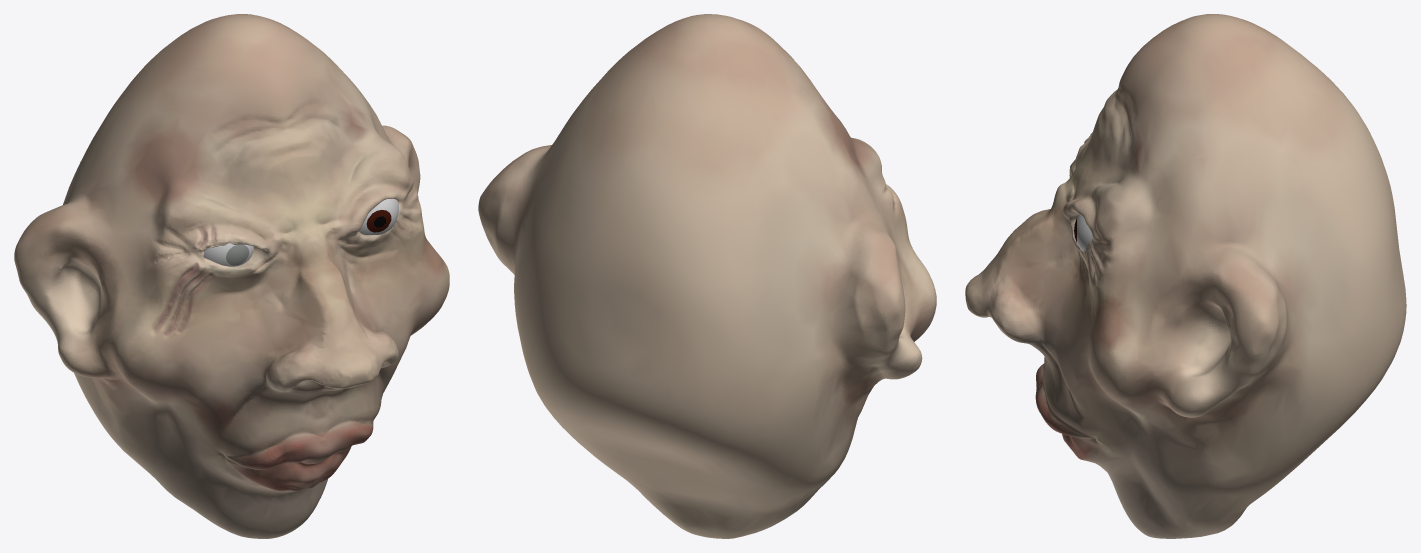
3 views of the same model, side by side, from view 1: azimuth 30°, elevation 25°; view 2: azimuth 150°, elevation 25°; view 3: azimuth 270°, elevation 25° (orthographic). The views are drawn at different scales.
Parts seen in each view (by area): view 1: Head, Left Eye; view 2: Head; view 3: Head.
Part boxes in pixels (<box>): Head: <box>14,14,449,538</box>; Left Eye: <box>203,198,398,266</box>; Head: <box>478,14,936,538</box>; Head: <box>965,14,1406,538</box>.
Bounding box in the file's own units: 2.55 × 3.01 × 2.37.
2 materials, 2 textured.
